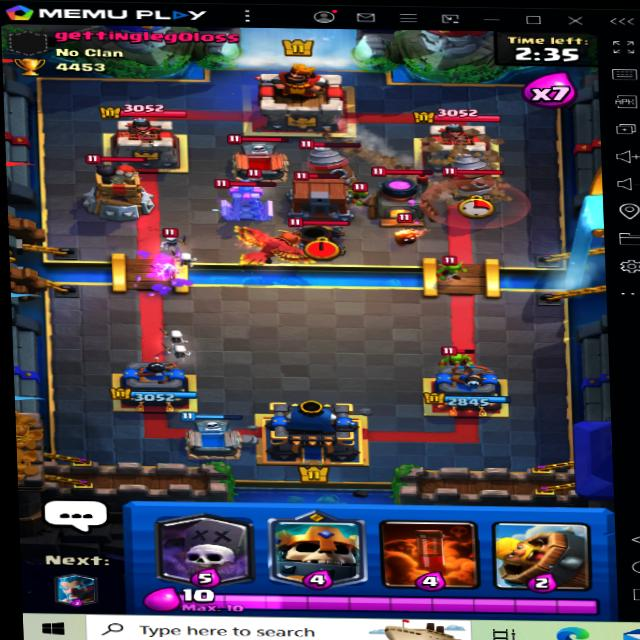bomb-tower: (78, 152, 159, 217)
fire-spirit: (390, 222, 419, 249)
furnace: (370, 165, 440, 230)
goblin: (433, 255, 468, 284), (441, 345, 476, 371)
goblin-cage: (279, 171, 355, 222)
goblin-drill: (440, 150, 505, 206), (301, 135, 369, 186)
mortar: (285, 217, 352, 259)
skeleton: (155, 224, 189, 248)
tesla: (206, 173, 277, 224)
tombstone: (223, 132, 296, 180)
trail: (318, 125, 448, 195)
